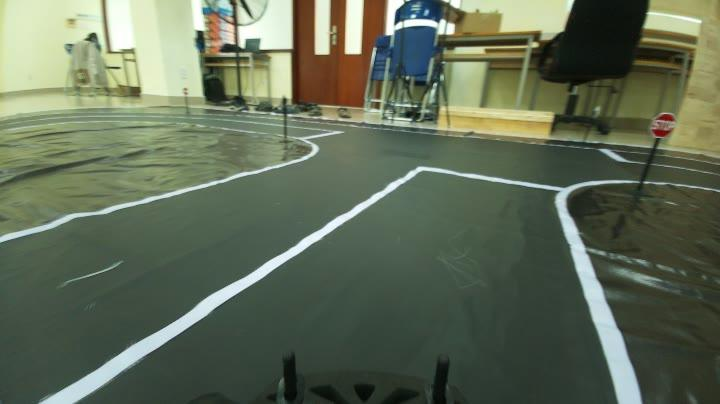stop: (645, 108, 680, 141)
